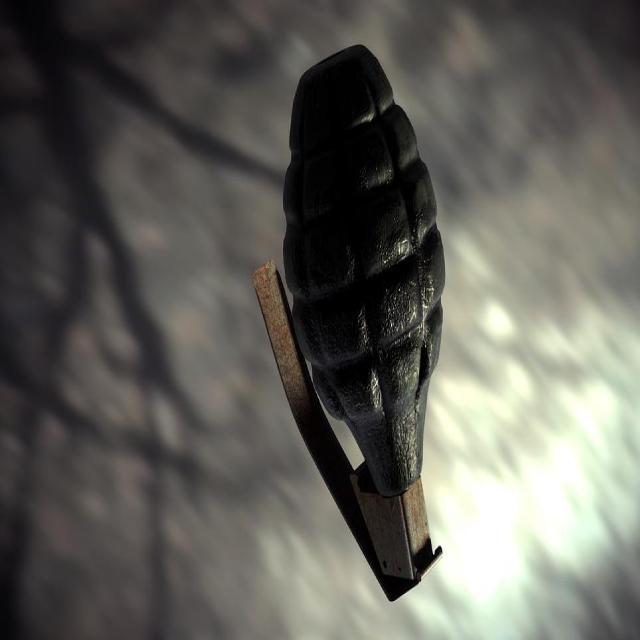grenade: (252, 45, 447, 603)
